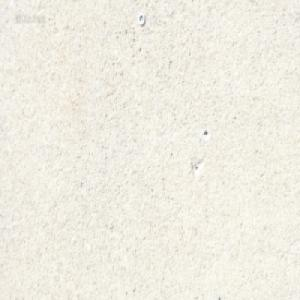Washer: (138, 12, 145, 26)
